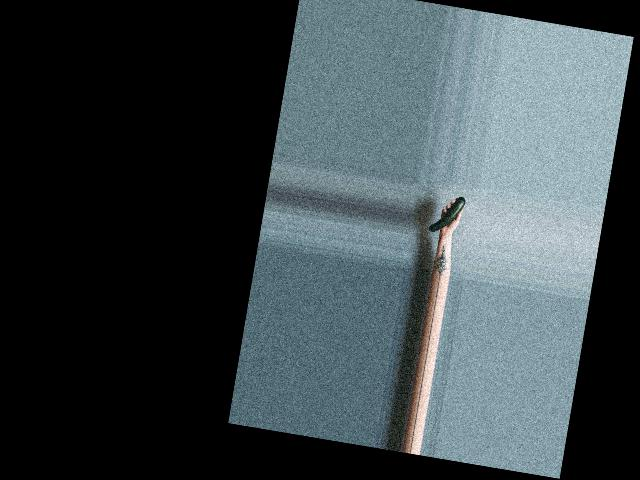cucumber: (428, 192, 465, 235)
